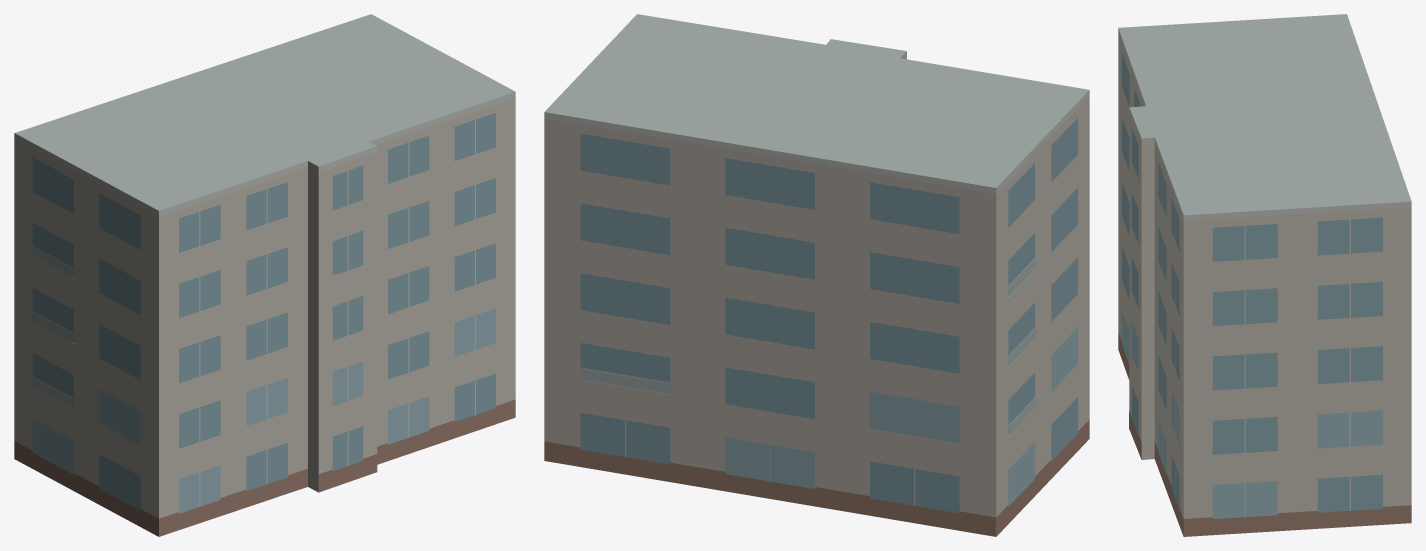
The model's file is survey-upis-32554655.glb.
3 renders of one model, left to right at view 1: azimuth 30°, elevation 25°; view 2: azimuth 150°, elevation 25°; view 3: azimuth 270°, elevation 25°, orthographic. The views are drawn at different scales.
Visible parts, largest first — view 1: survey-upis-32554655.tmp; view 2: survey-upis-32554655.tmp; view 3: survey-upis-32554655.tmp.
Boxes of the visible parts, x1,y1,x2,y2 form: survey-upis-32554655.tmp: (14, 14, 515, 536); survey-upis-32554655.tmp: (544, 14, 1089, 536); survey-upis-32554655.tmp: (1118, 14, 1411, 536).
Size of the model in its own units: 18.68 by 13.9 by 11.5.
